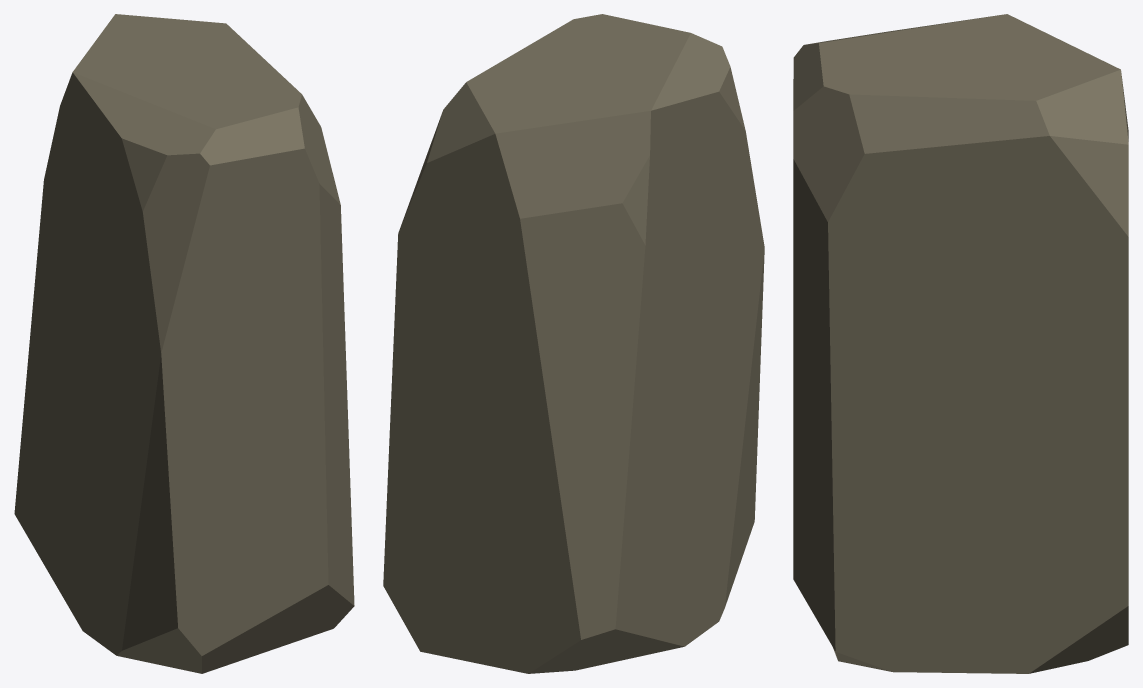
File: rock3.fbx
3 renders of one model, left to right at view 1: azimuth 30°, elevation 25°; view 2: azimuth 150°, elevation 25°; view 3: azimuth 270°, elevation 25°, orthographic. The views are drawn at different scales.
Parts seen in each view (by area): view 1: Cube; view 2: Cube; view 3: Cube.
Boxes of the visible parts, left/top/right/bottom form: Cube: left=14, top=14, right=354, bottom=673; Cube: left=383, top=14, right=764, bottom=673; Cube: left=793, top=14, right=1128, bottom=673.
Bounding box in the file's own units: 59.05 × 141 × 76.97.
